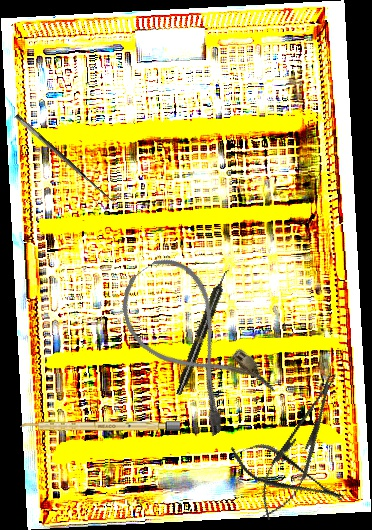Cannula: (104, 245, 280, 441)
Handpiece: (173, 267, 232, 397)
Hook Surgical: (13, 106, 122, 207)
Micro Scissor: (222, 430, 352, 519)
Needle Holder: (248, 365, 352, 527)
Scalpel Handle: (20, 421, 180, 431)
